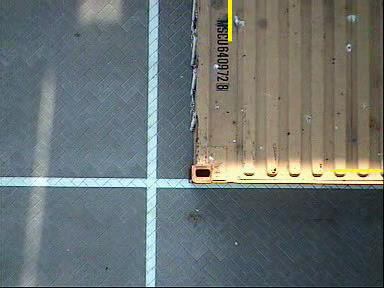groundmarker_2: (31, 164, 127, 221)
